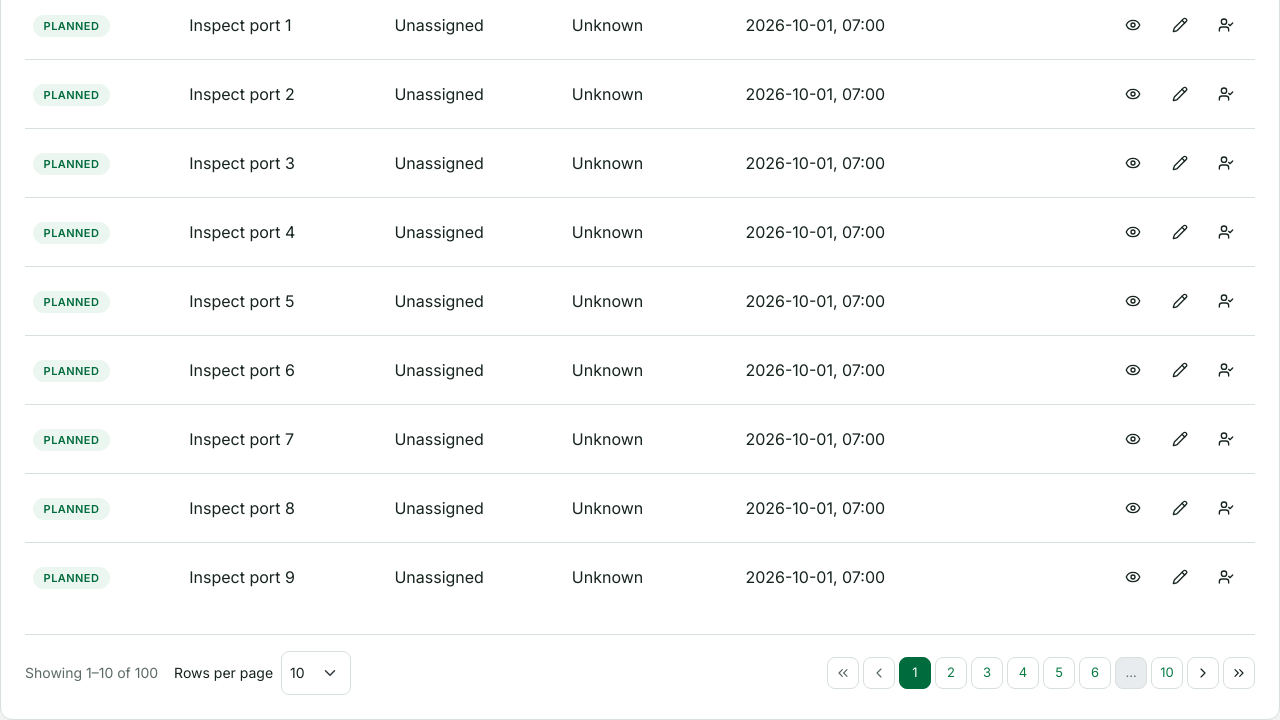
Test: Creator Edit visibility for 100 rows comes from list identity without per-row detail requests
(page scrolled)
Step 1. Select "100" in the dropdown labelled "Rows per page" → (316,672), box [281, 650, 351, 694]
(page scrolled)
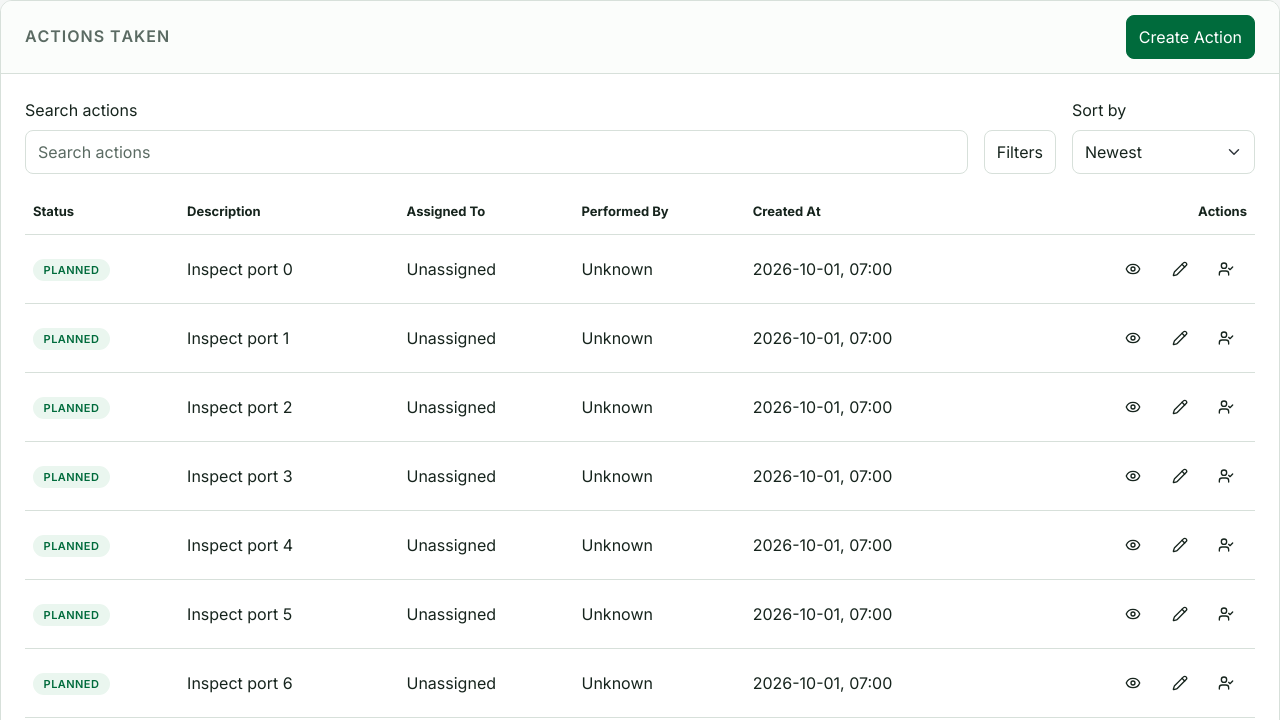
Now the number of buttons named "Edit Inspect port" is 100
